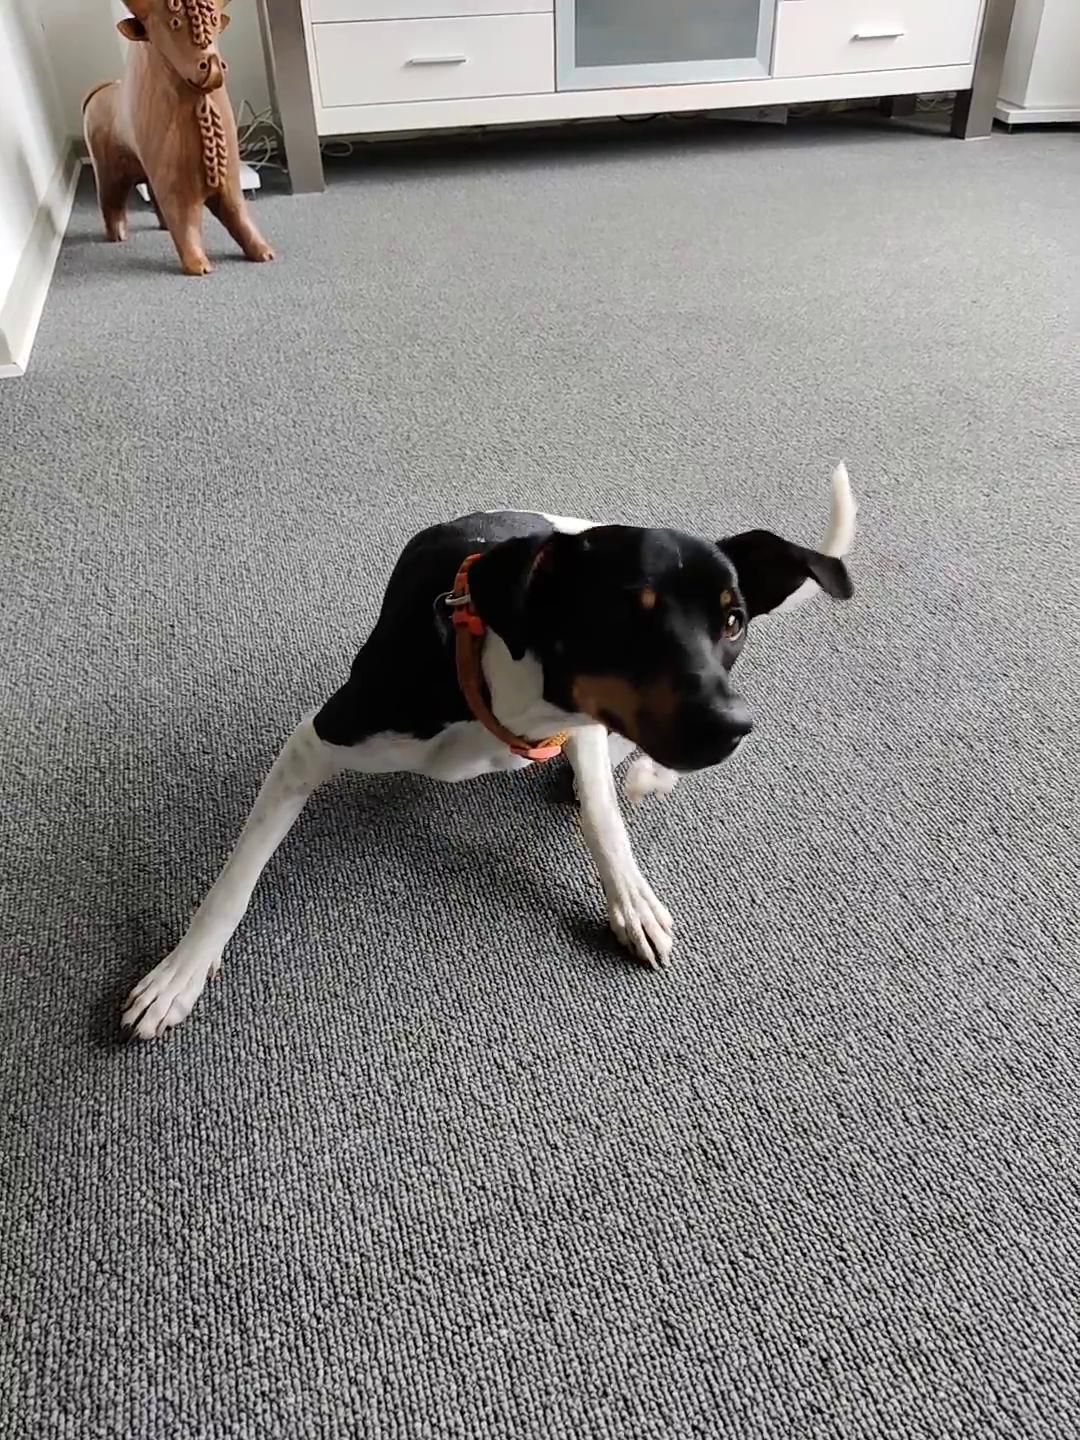Dog: (106, 451, 864, 1058)
